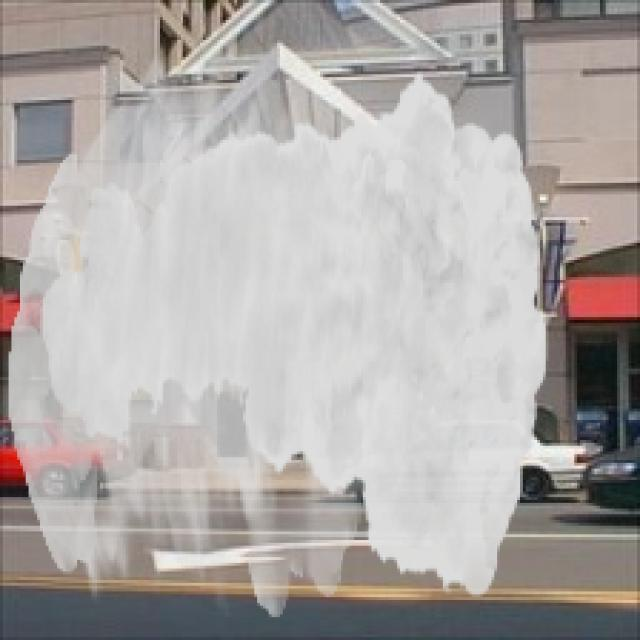Smoke: (9, 48, 548, 618)
